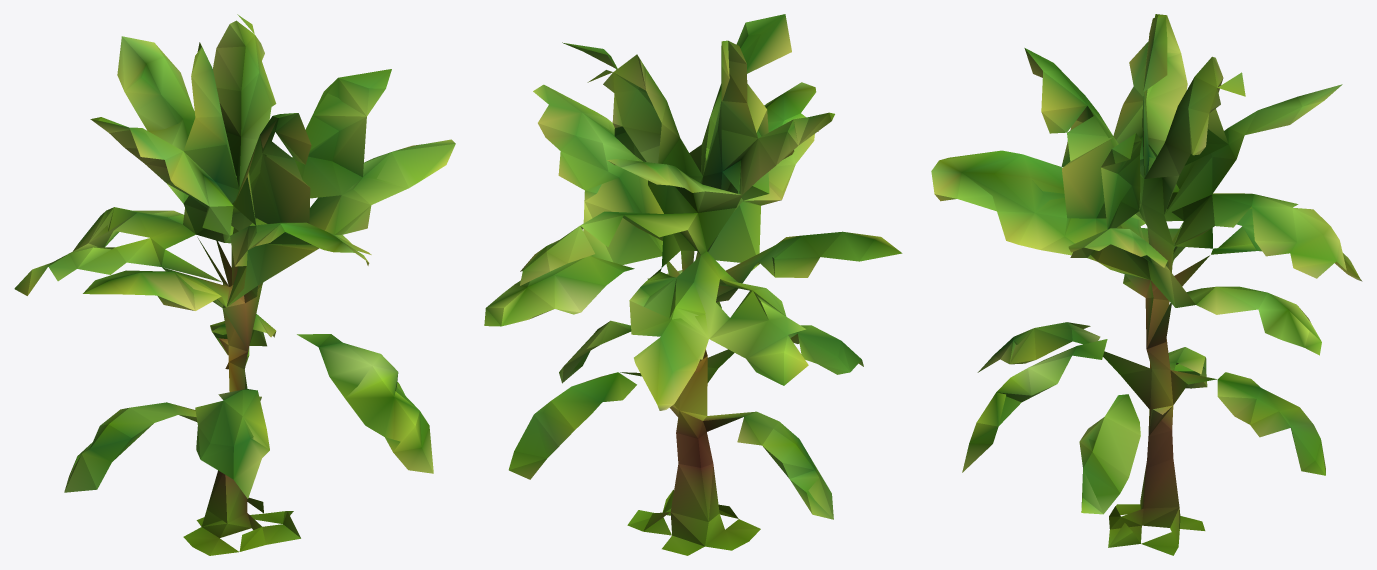
File: banana.glb
The picture shows the model from 3 angles, left to right: view 1: azimuth 30°, elevation 25°; view 2: azimuth 150°, elevation 25°; view 3: azimuth 270°, elevation 25°; orthographic projection.
Size of the model in its own units: 1.46 by 1.89 by 1.49.
